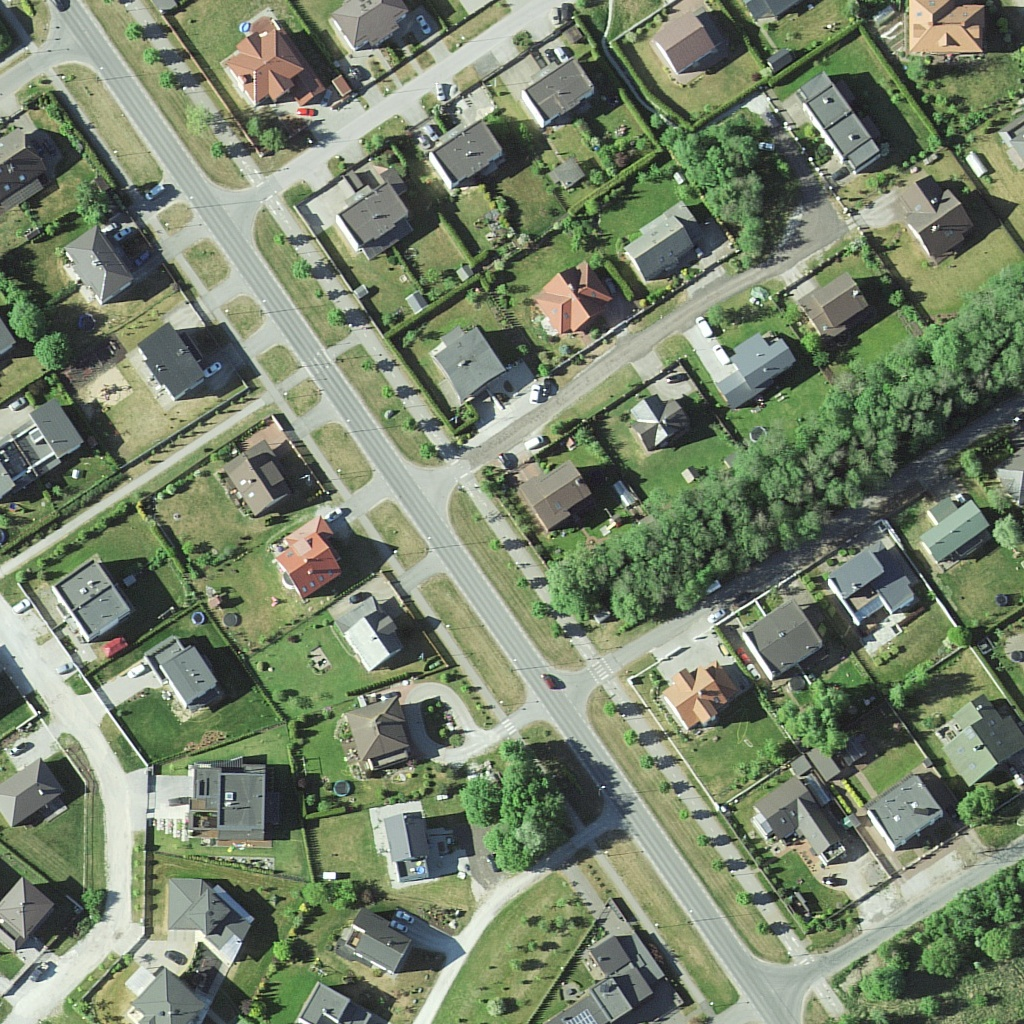building: (527, 937, 663, 1024), (1, 398, 89, 503), (800, 79, 883, 175), (762, 777, 843, 875), (740, 598, 831, 681), (148, 322, 237, 403), (945, 696, 1024, 785), (192, 758, 271, 846), (829, 549, 916, 628), (515, 455, 602, 528), (63, 559, 135, 645), (427, 328, 510, 402), (151, 632, 224, 715), (872, 778, 952, 852), (721, 326, 790, 411), (901, 179, 968, 263), (227, 25, 303, 98), (902, 1, 987, 66), (534, 268, 616, 335), (230, 439, 292, 519), (67, 228, 130, 306), (523, 59, 592, 128), (350, 698, 415, 770), (343, 182, 407, 255), (656, 15, 725, 82), (631, 201, 696, 272), (281, 524, 342, 599), (342, 601, 404, 673), (347, 910, 411, 975), (661, 665, 725, 730), (434, 123, 500, 185), (1, 760, 63, 825), (1, 874, 54, 949), (802, 269, 864, 331), (3, 124, 47, 211), (922, 498, 991, 552), (165, 876, 224, 938), (330, 1, 410, 46), (627, 390, 687, 448), (142, 972, 199, 1024), (387, 809, 431, 875)
